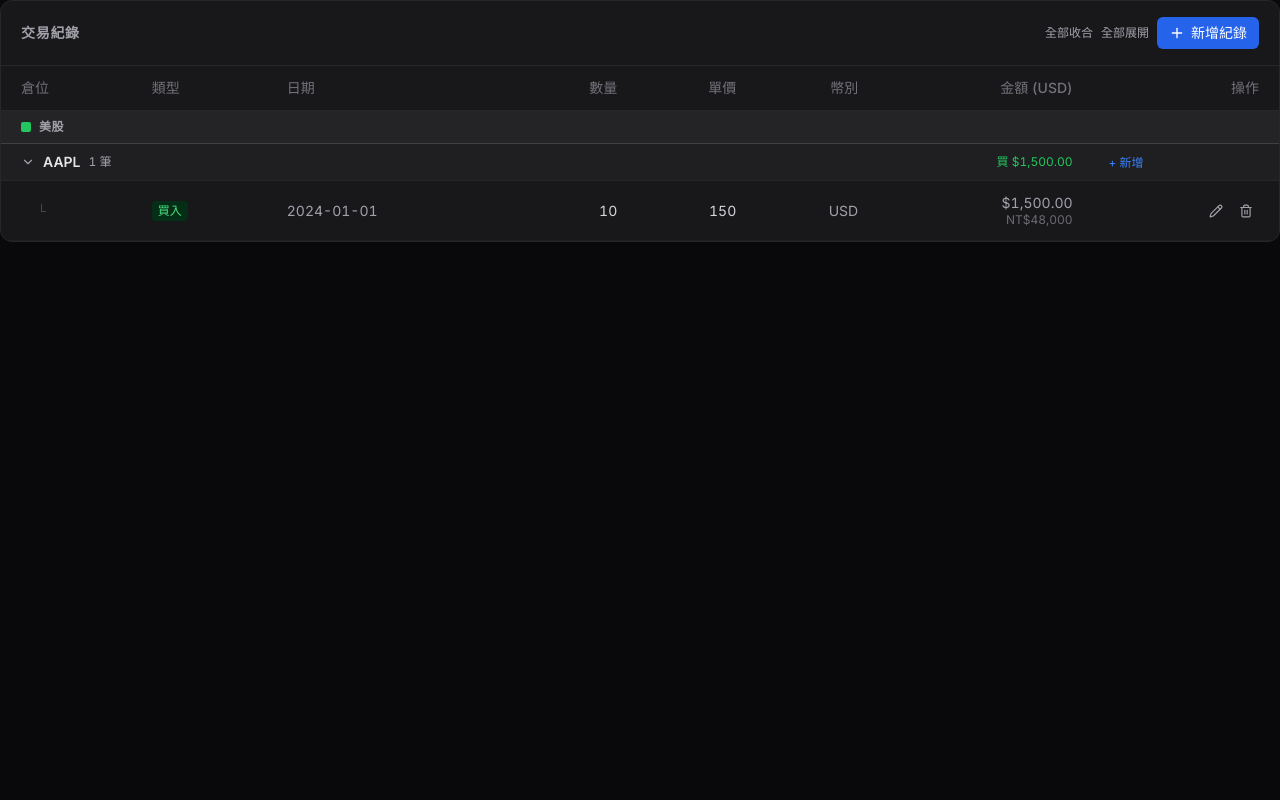
Test: LotTable › shows confirm dialog when trash button clicked
Step 1. Click the button titled "刪除" → (1246, 211), box [1233,198,1259,224]
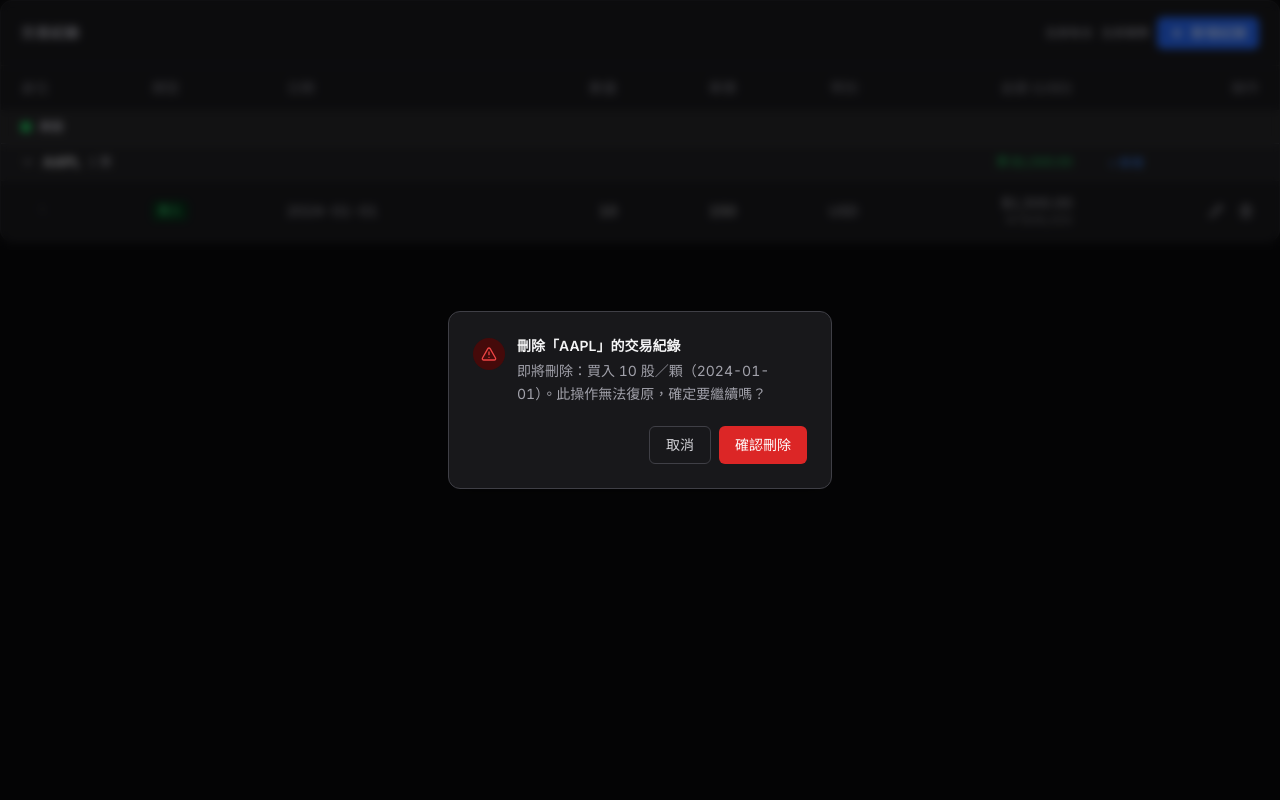
Expected: the heading "刪除「AAPL」的交易紀錄" is shown, [517,337,680,354]
